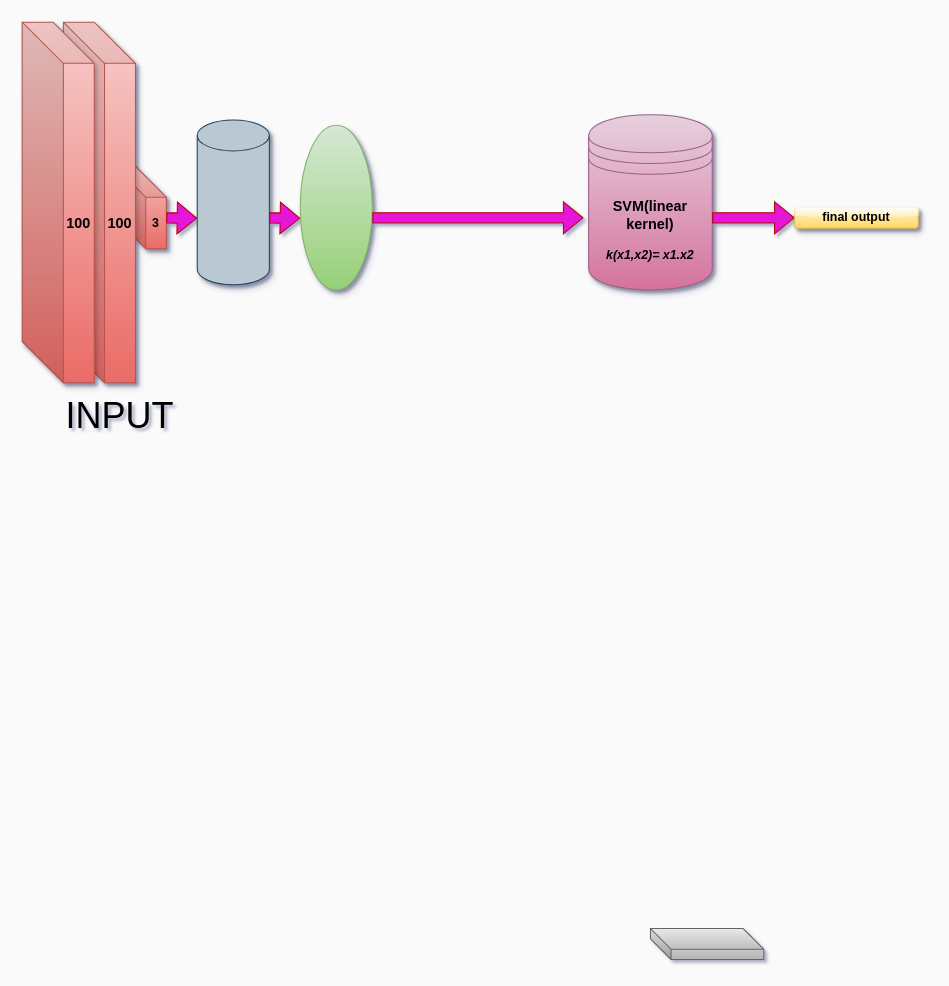
Some shapes in this 949 by 986 pixel diagram are drawn without their labels. The shapes that lost their labels are listed below. From the top down, each one's centre as x and y in pixels, then its label:
At pixel 234 203: "vgg16 (feature extractor) for training".
At pixel 337 208: "flatten".
At pixel 706 943: "Output".
